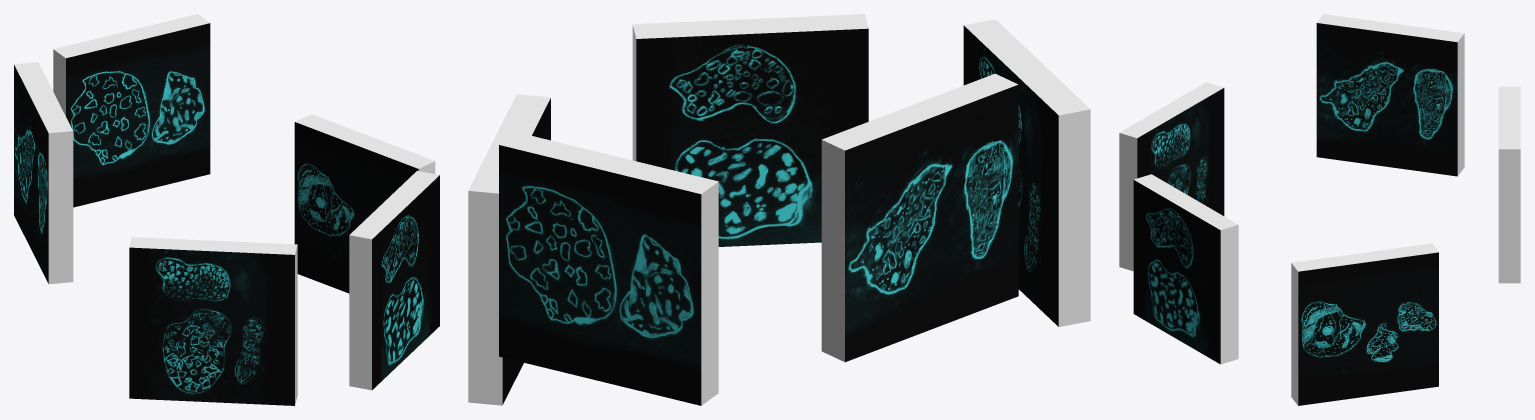
File: 5_square.obj
3 renders of one model, left to right at view 1: azimuth 30°, elevation 25°; view 2: azimuth 150°, elevation 25°; view 3: azimuth 270°, elevation 25°, orthographic. The views are drawn at different scales.
Parts seen in each view (by area): view 1: Cube_4, Cube_1, Cube_3, Cube_2, Cube_5; view 2: Cube_1, Cube_5, Cube_3, Cube_4, Cube_2; view 3: Cube_5, Cube_2, Cube_3, Cube_4, Cube_1.
Part boxes in pixels (x1,y1,x2,y2): Cube_4: (129, 237, 297, 405); Cube_1: (53, 14, 210, 207); Cube_3: (349, 171, 439, 390); Cube_2: (294, 114, 435, 293); Cube_5: (14, 62, 73, 284); Cube_1: (499, 132, 718, 405); Cube_5: (821, 73, 1018, 362); Cube_3: (632, 14, 868, 246); Cube_4: (963, 19, 1090, 326); Cube_2: (468, 94, 550, 405); Cube_5: (1316, 14, 1464, 176); Cube_2: (1291, 243, 1438, 405); Cube_3: (1133, 174, 1238, 364); Cube_4: (1119, 82, 1224, 271); Cube_1: (1498, 86, 1520, 283).
Bounding box in the file's own units: 774 × 515 × 813.
Materials: 6 (5 with a texture image).
